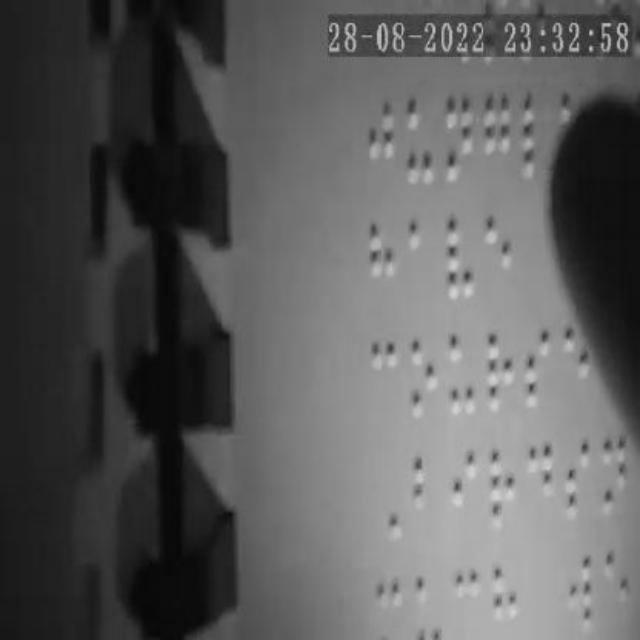braiile: (486, 446, 526, 538), (401, 90, 437, 186), (524, 441, 560, 537), (446, 212, 482, 304), (407, 212, 443, 304), (446, 328, 482, 420), (520, 85, 552, 188), (484, 206, 518, 302), (404, 333, 440, 423), (409, 448, 445, 538), (444, 88, 476, 188), (368, 331, 402, 421), (558, 440, 592, 530), (480, 91, 512, 183), (486, 326, 518, 418), (450, 446, 482, 538), (598, 436, 630, 528), (362, 94, 394, 184), (524, 320, 554, 416), (366, 214, 398, 302)
